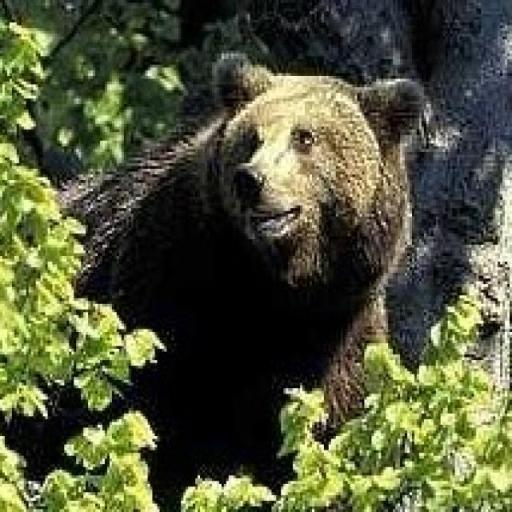Bear: (40, 48, 428, 506)
